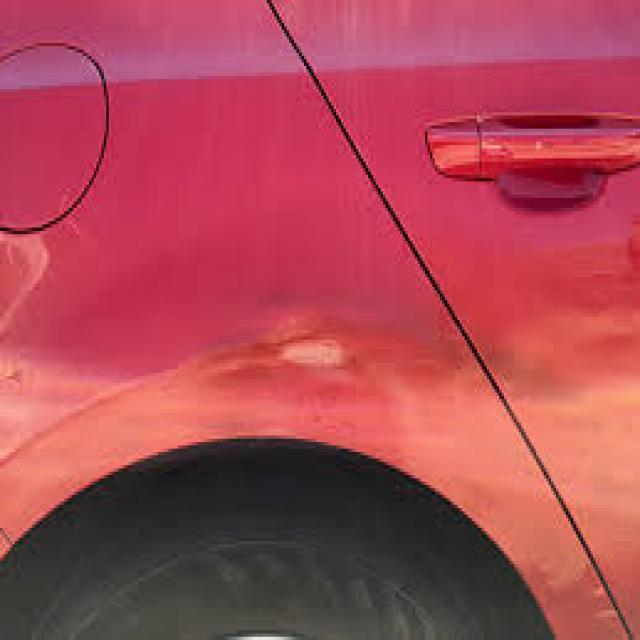dent-or-scratch: (180, 326, 377, 414)
